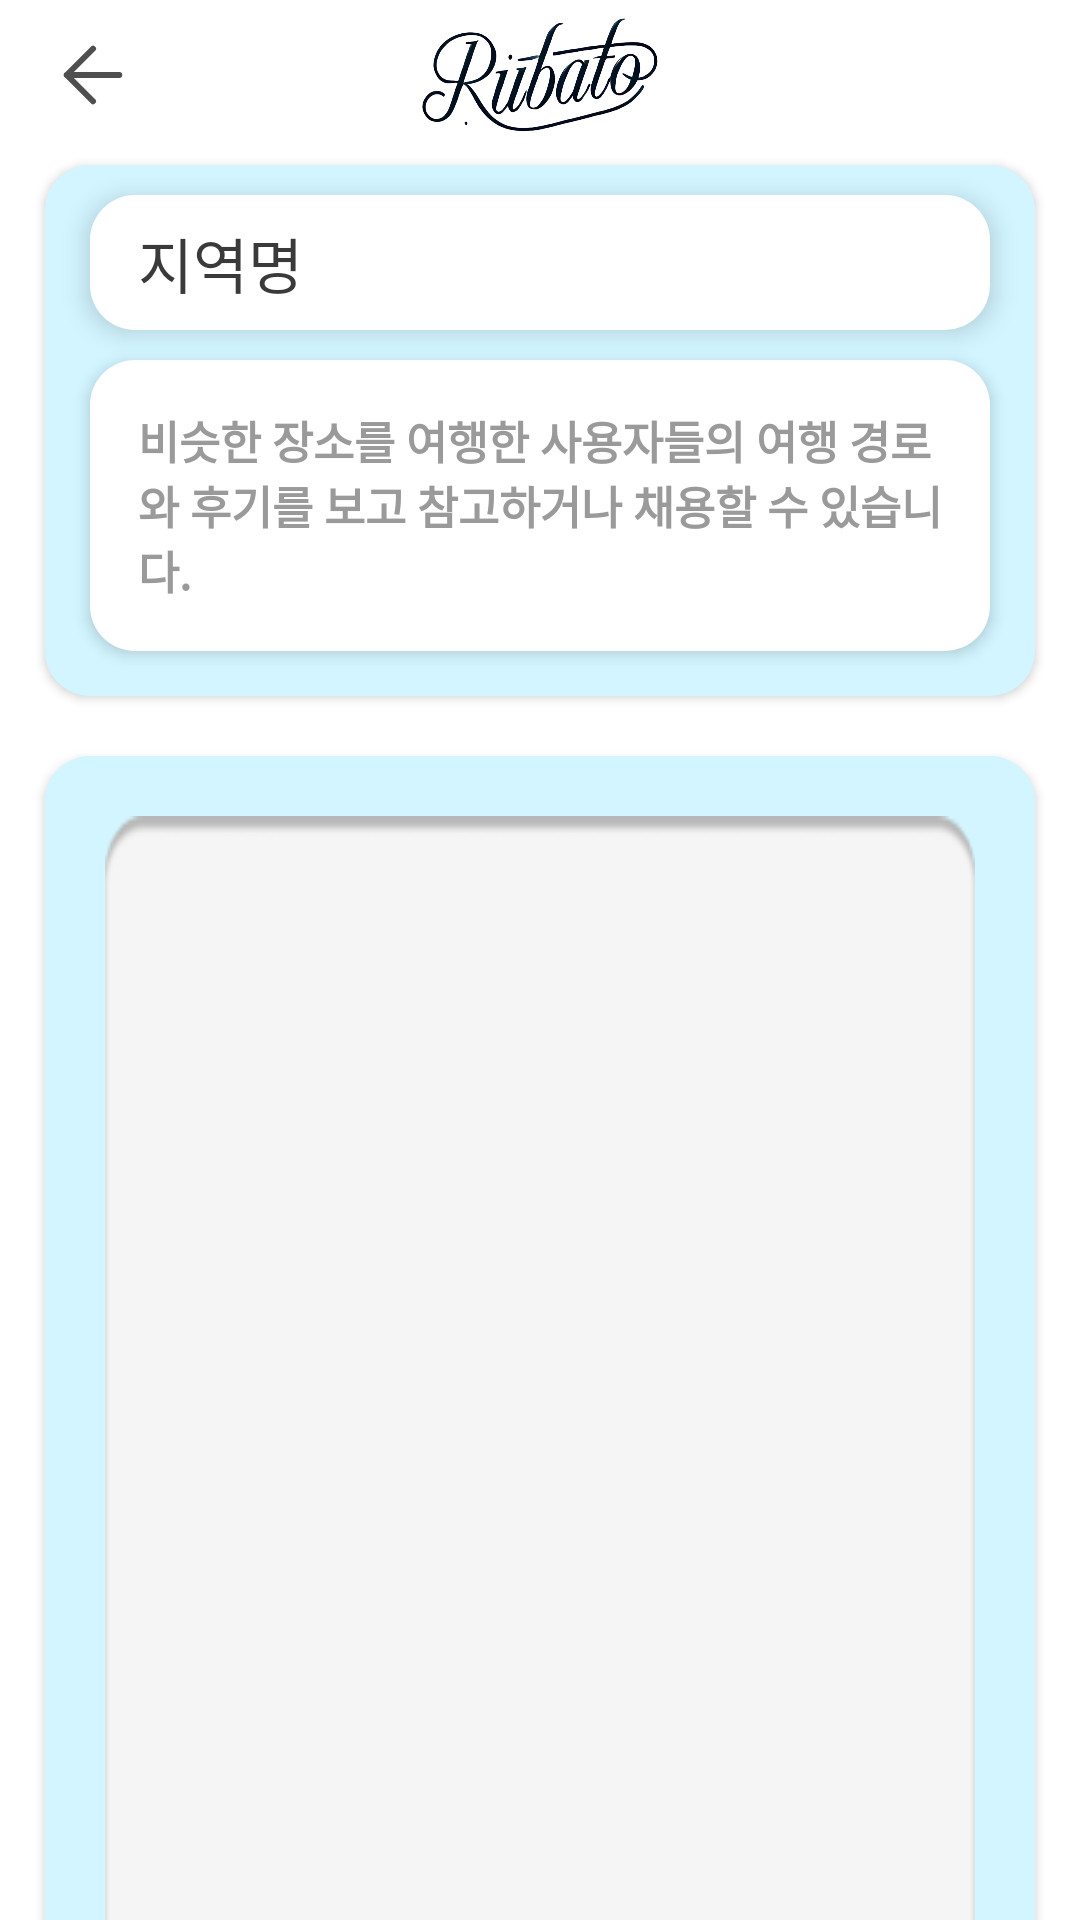

Icons on this 1080*1920 Android screen, each with its box as (x1, y1, x2, y2):
back arrow: (63, 45, 123, 105)
